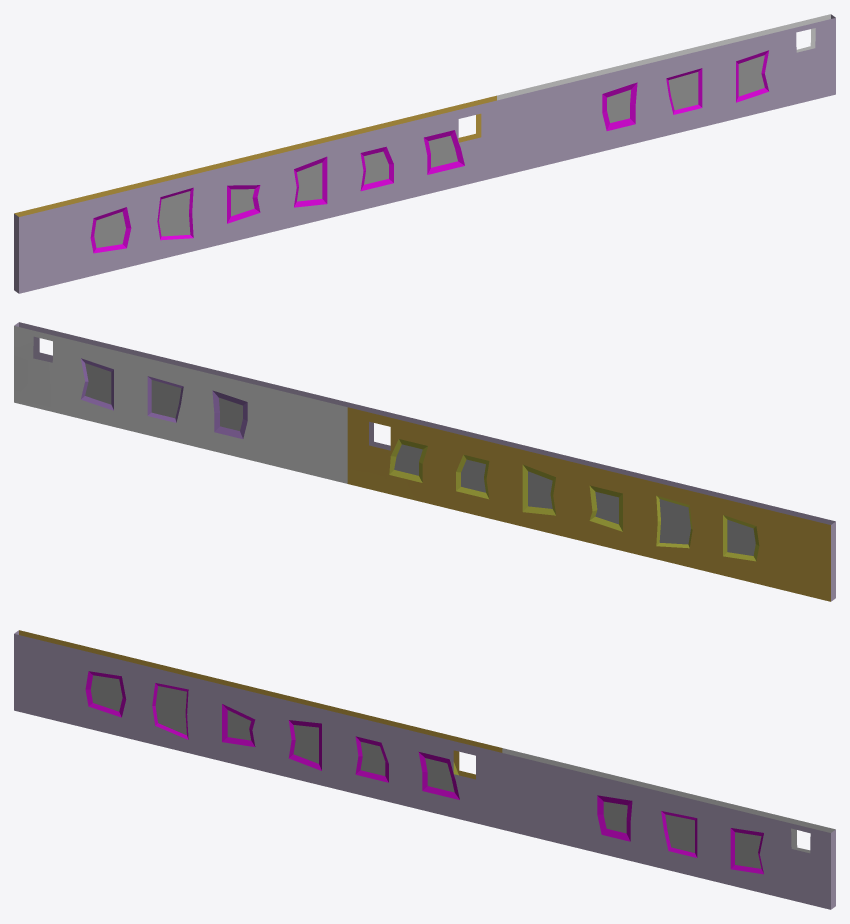
File: SM_SchoolWallEastBottom_3.2.fbx
3 views of the same model, one above another, from view 1: azimuth 30°, elevation 25°; view 2: azimuth 150°, elevation 25°; view 3: azimuth 330°, elevation 25° (orthographic).
Parts seen in each view (by area): view 1: SM_SchoolWallEastBottom_3_2; view 2: SM_SchoolWallEastBottom_3_2; view 3: SM_SchoolWallEastBottom_3_2.
Boxes of the visible parts, x1,y1,x2,y2 form: SM_SchoolWallEastBottom_3_2: (14,14,835,293); SM_SchoolWallEastBottom_3_2: (14,322,835,601); SM_SchoolWallEastBottom_3_2: (14,630,835,909).
Size of the model in its own units: 5568 by 500 by 65.17.
